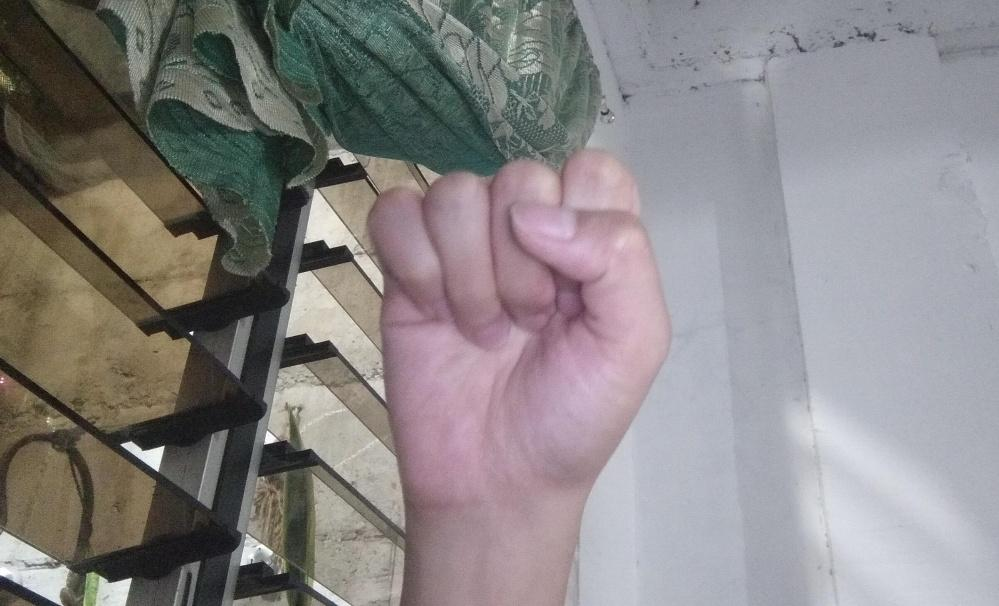s: (366, 145, 674, 524)
